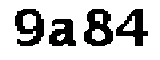4: (114, 2, 152, 52)
8: (83, 7, 115, 52)
9: (9, 3, 45, 51)
a: (46, 14, 78, 52)
